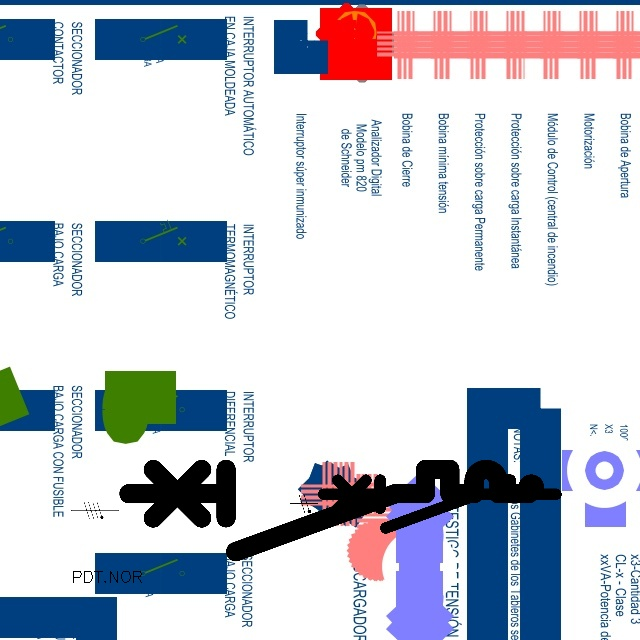interruptor_termomagnetico: (118, 459, 538, 562), (317, 474, 562, 534)
